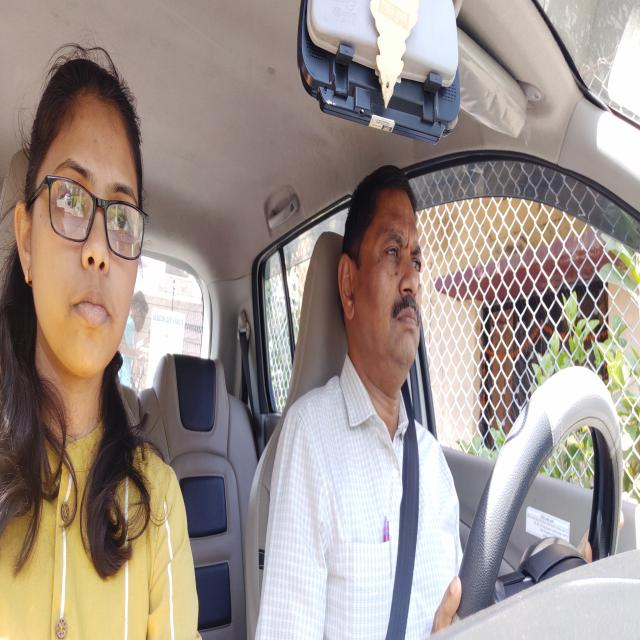person: (21, 62, 146, 378), (337, 168, 427, 388)
